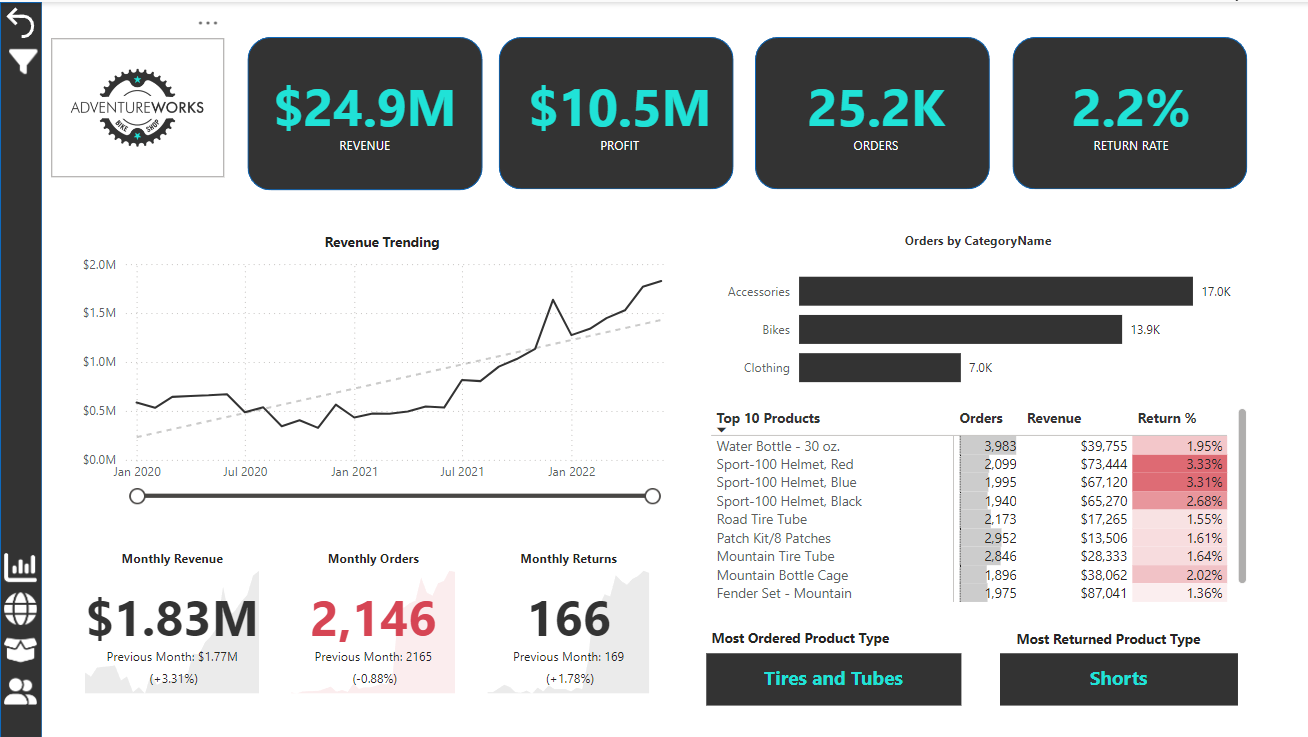

The page's visual inventory and layout, read from the dashboard file:
{"tool":"powerbi","page":{"name":"Executive Dashboard","canvas":[1280,720],"ordinal":0},"visuals":[{"type":"card","fields":{"Values":["Measure Table.Total Revenue"]},"box":[241.9,33.3,229.8,150.2],"z":0,"group":"g2"},{"type":"group","id":"g1","title":"KPI Background","box":[241.9,34.3,979.7,150.2],"z":0,"group":"g3"},{"type":"shape","box":[241.9,34.6,230,150],"z":0,"group":"g1"},{"type":"image","title":"AW Logo","box":[50.1,34.9,169.3,136.1],"z":0},{"type":"actionButton","box":[0,573.5,41.2,40.3],"z":0,"group":"g4"},{"type":"shape","title":"Left Nav Background","box":[0,0,41.2,720],"z":1000},{"type":"group","id":"g2","title":"KPI Values","box":[241.9,33.3,979.7,150.2],"z":1000,"group":"g3"},{"type":"card","fields":{"Values":["Measure Table.Total Profit"]},"box":[491.9,33.3,229.8,150.2],"z":1000,"group":"g2"},{"type":"shape","box":[487.8,34.6,229.8,149.2],"z":1000,"group":"g1"},{"type":"actionButton","box":[0,533.2,41.2,40.3],"z":1000,"group":"g4"},{"type":"group","id":"g3","title":"KPIs","box":[241.9,33.3,979.7,151.2],"z":2000},{"type":"card","fields":{"Values":["Measure Table.Total Orders"]},"box":[741.8,33.3,229.8,150.2],"z":2000,"group":"g2"},{"type":"shape","box":[738.8,34.3,229.8,149.2],"z":2000,"group":"g1"},{"type":"actionButton","box":[0,654.1,41.2,40.3],"z":2000,"group":"g4"},{"type":"card","fields":{"Values":["Measure Table.Return Rate"]},"box":[991.8,33.3,229.8,150.2],"z":3000,"group":"g2"},{"type":"shape","box":[990.8,34.3,229.8,149.2],"z":3000,"group":"g1"},{"type":"lineChart","title":"Revenue Trending","fields":{"Y":["Measure Table.Total Revenue"],"Category":["Calendar Lookup.Start of Month"]},"box":[75.6,224.8,595.7,269.1],"z":3000},{"type":"actionButton","box":[0,613.8,41.2,40.3],"z":3000,"group":"g4"},{"type":"kpi","title":"Monthly Revenue","fields":{"Indicator":["Measure Table.Total Revenue"],"TrendLine":["Calendar Lookup.Start of Month"],"Goal":["Measure Table.Previous Month Revenue"]},"box":[78.6,536.2,180.4,146.1],"z":4000},{"type":"kpi","title":"Monthly Orders","fields":{"TrendLine":["Calendar Lookup.Start of Month"],"Indicator":["Measure Table.Total Orders"],"Goal":["Measure Table.Previous Month Orders"]},"box":[280.2,536.2,170.3,146.1],"z":5000},{"type":"kpi","title":"Monthly Returns","fields":{"TrendLine":["Calendar Lookup.Start of Month"],"Indicator":["Measure Table.Total Returns"],"Goal":["Measure Table.Previous Month Returns"]},"box":[471.7,536.2,168.3,146.1],"z":6000},{"type":"clusteredBarChart","title":" Orders by CategoryName","fields":{"Category":["Product Categories Lookup.CategoryName"],"Y":["Measure Table.Total Orders"]},"box":[702.4,224.5,509.8,168.6],"z":7000},{"type":"pivotTable","fields":{"Rows":["Product Lookup.ProductName"],"Values":["Measure Table.Total Orders","Measure Table.Total Revenue","Measure Table.Return Rate"]},"box":[691.3,393.1,533.7,199.7],"z":8000},{"type":"card","fields":{"Values":["Min(Product Subcategories Lookup.SubcategoryName)"]},"box":[691.4,637.5,249.4,50.9],"z":9000},{"type":"textbox","box":[691.4,607.6,195.5,32.9],"z":10000},{"type":"card","fields":{"Values":["Min(Product Subcategories Lookup.SubcategoryName)"]},"box":[978.7,637.5,232.5,50.9],"z":11000},{"type":"textbox","box":[988.7,609.6,207.5,33.9],"z":12000},{"type":"actionButton","box":[0,0,41.2,40.3],"z":13000},{"type":"group","id":"g4","title":"Navigation Buttons","box":[0,533.2,41.3,161.3],"z":14000},{"type":"actionButton","box":[4.5,40.3,36.7,35.8],"z":15000}]}

Visuals, with their boxes on the page's 1280x720 design canvas (x1, y1, x2, y2). These are canvas units, not pixel positions in the 1308x737 screenshot, which may show the page scaled, cropped or inside an application window:
card - Measure Table.Total Revenue: bbox=[242, 33, 472, 184]
"KPI Background" group: bbox=[242, 34, 1222, 184]
shape: bbox=[242, 35, 472, 185]
"AW Logo" image: bbox=[50, 35, 219, 171]
actionButton: bbox=[0, 574, 41, 614]
"Left Nav Background" shape: bbox=[0, 0, 41, 720]
"KPI Values" group: bbox=[242, 33, 1222, 184]
card - Measure Table.Total Profit: bbox=[492, 33, 722, 184]
shape: bbox=[488, 35, 718, 184]
actionButton: bbox=[0, 533, 41, 574]
"KPIs" group: bbox=[242, 33, 1222, 184]
card - Measure Table.Total Orders: bbox=[742, 33, 972, 184]
shape: bbox=[739, 34, 969, 184]
actionButton: bbox=[0, 654, 41, 694]
card - Measure Table.Return Rate: bbox=[992, 33, 1222, 184]
shape: bbox=[991, 34, 1221, 184]
"Revenue Trending" lineChart: bbox=[76, 225, 671, 494]
actionButton: bbox=[0, 614, 41, 654]
"Monthly Revenue" kpi: bbox=[79, 536, 259, 682]
"Monthly Orders" kpi: bbox=[280, 536, 450, 682]
"Monthly Returns" kpi: bbox=[472, 536, 640, 682]
" Orders by CategoryName" clusteredBarChart: bbox=[702, 224, 1212, 393]
pivotTable - Product Lookup.ProductName x Measure Table.Total Orders: bbox=[691, 393, 1225, 593]
card - Min(Product Subcategories Lookup.SubcategoryName): bbox=[691, 638, 941, 688]
textbox: bbox=[691, 608, 887, 640]
card - Min(Product Subcategories Lookup.SubcategoryName): bbox=[979, 638, 1211, 688]
textbox: bbox=[989, 610, 1196, 644]
actionButton: bbox=[0, 0, 41, 40]
"Navigation Buttons" group: bbox=[0, 533, 41, 694]
actionButton: bbox=[4, 40, 41, 76]
